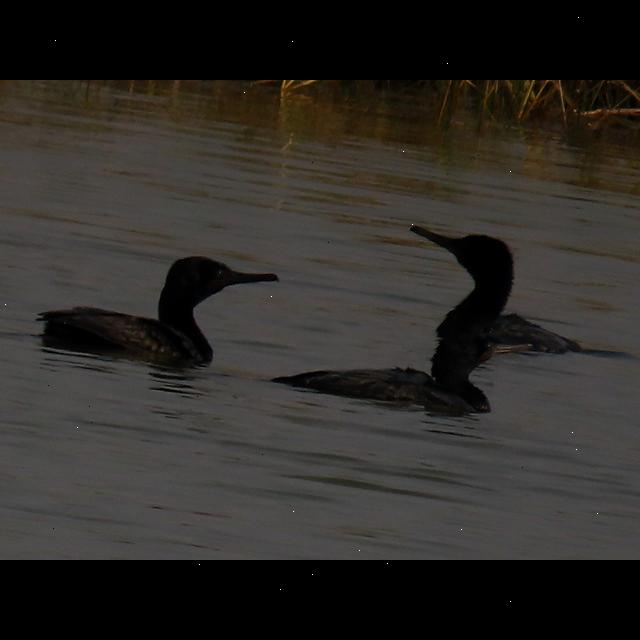cormorant: (40, 255, 282, 361), (287, 334, 535, 422)
